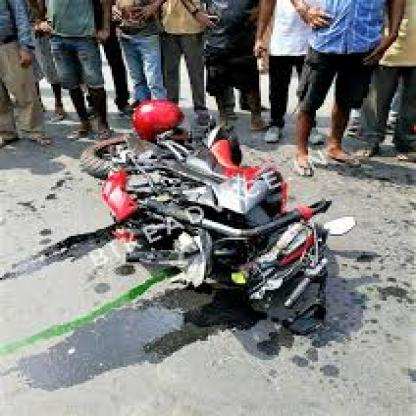accident: (71, 96, 359, 343)
